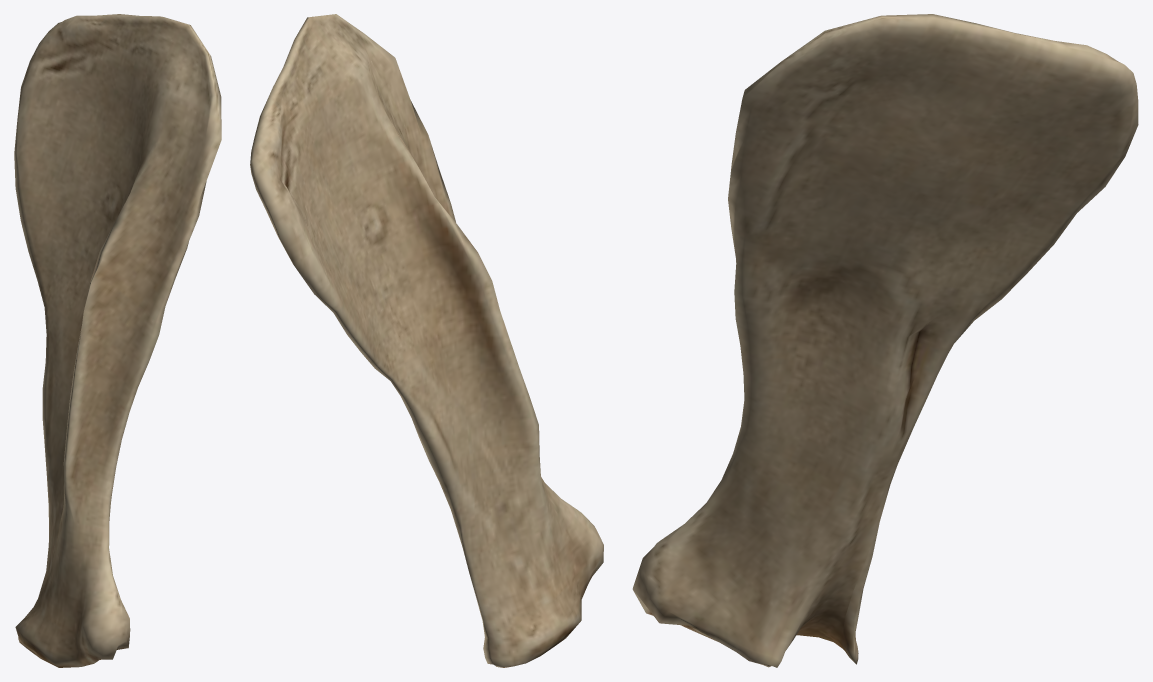
Rendered from Scapula.glb.
3 renders of one model, left to right at view 1: azimuth 30°, elevation 25°; view 2: azimuth 150°, elevation 25°; view 3: azimuth 270°, elevation 25°, orthographic. The views are drawn at different scales.
Visible parts, largest first — view 1: R_Frt_Scapula; view 2: R_Frt_Scapula; view 3: R_Frt_Scapula.
Boxes of the visible parts, left/top/right/bottom form: R_Frt_Scapula: left=14, top=14, right=221, bottom=667; R_Frt_Scapula: left=250, top=14, right=603, bottom=667; R_Frt_Scapula: left=632, top=14, right=1138, bottom=667.
Bounding box in the file's own units: 0.1321 × 0.3595 × 0.2198.
1 material, 1 textured.
